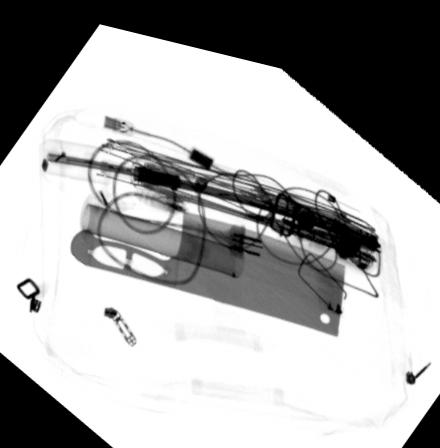Knife: (68, 200, 345, 320)
